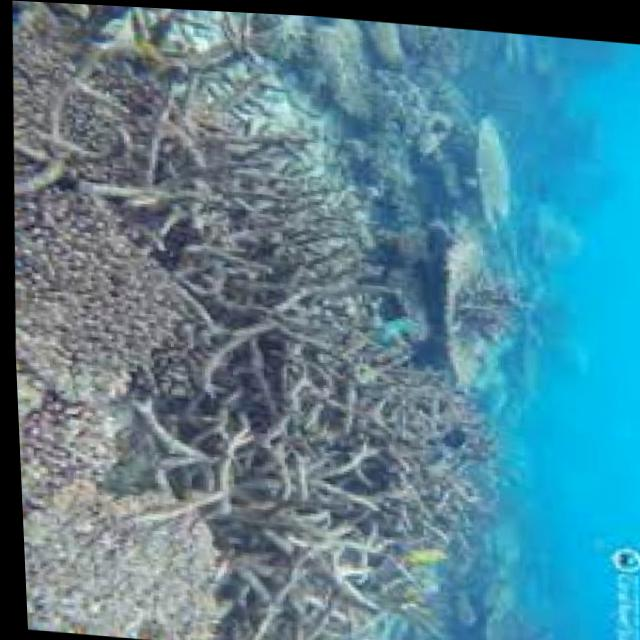Dead Coral: (0, 11, 218, 640), (129, 300, 479, 640), (120, 51, 380, 331)
